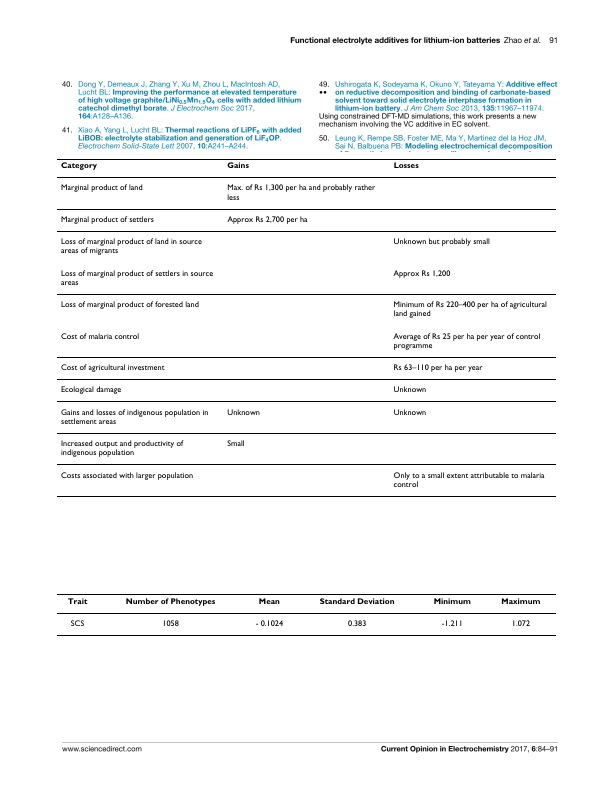borderless: (56, 157, 556, 496), (56, 592, 556, 635)
cell: (59, 269, 214, 288), (392, 300, 547, 319), (392, 471, 545, 490), (226, 184, 376, 203), (59, 408, 209, 427), (392, 332, 541, 351), (59, 237, 202, 256), (59, 439, 184, 458), (59, 300, 199, 310), (59, 471, 194, 481), (59, 363, 165, 373), (392, 237, 490, 247), (59, 215, 154, 225), (392, 363, 483, 373), (124, 597, 216, 606), (226, 215, 308, 225), (59, 332, 140, 342), (59, 184, 143, 193), (318, 597, 395, 606), (392, 269, 451, 279), (59, 386, 122, 395), (500, 597, 541, 606), (432, 597, 471, 606), (392, 408, 427, 418), (59, 162, 97, 171), (226, 408, 260, 418), (392, 386, 427, 395), (392, 162, 419, 171), (254, 619, 284, 627), (226, 162, 249, 171), (257, 597, 280, 606), (66, 597, 88, 606), (226, 439, 245, 449), (440, 619, 463, 627), (510, 619, 531, 627), (347, 619, 367, 627), (161, 619, 179, 627), (69, 619, 85, 627)
